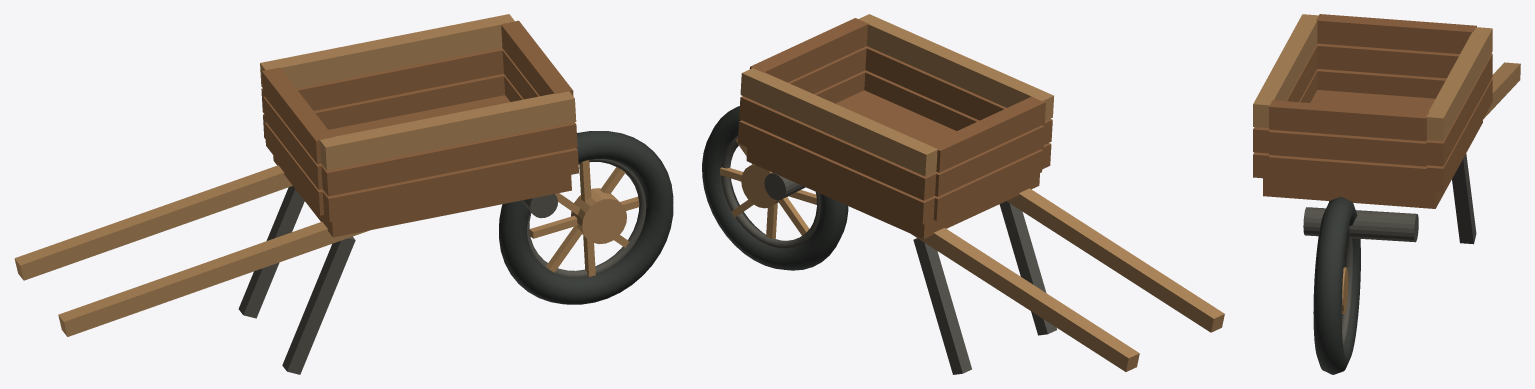
File: carrinho_mao.glb
3 renders of one model, left to right at view 1: azimuth 30°, elevation 25°; view 2: azimuth 150°, elevation 25°; view 3: azimuth 270°, elevation 25°, orthographic. The views are drawn at different scales.
Visible parts, largest first — view 1: Carrinho | pneu, Carrinho | tábua lateral -0.34 2, Carrinho | tábua lateral 0.34 2, Carrinho | braço, Carrinho | braço.001, Carrinho | tábua lateral -0.34 1, Carrinho | tábua lateral -0.34 0, Carrinho | fundo da caçamba, Carrinho | tábua lateral 0.34 1, Carrinho | tábua lateral 0.34 0, Carrinho | perna de apoio, Carrinho | testeira -0.46 2 (+9 smaller); view 2: Carrinho | fundo da caçamba, Carrinho | tábua lateral 0.34 2, Carrinho | pneu, Carrinho | braço.001, Carrinho | braço, Carrinho | tábua lateral -0.34 2, Carrinho | tábua lateral 0.34 1, Carrinho | tábua lateral 0.34 0, Carrinho | testeira -0.46 2, Carrinho | tábua lateral -0.34 1, Carrinho | testeira 0.46 2, Carrinho | perna de apoio.001 (+10 smaller); view 3: Carrinho | pneu, Carrinho | fundo da caçamba, Carrinho | testeira 0.46 2, Carrinho | testeira -0.46 2, Carrinho | testeira 0.46 0, Carrinho | testeira 0.46 1, Carrinho | testeira -0.46 1, Carrinho | tábua lateral 0.34 2, Carrinho | tábua lateral -0.34 2, Carrinho | testeira -0.46 0, Carrinho | eixo da roda, Carrinho | tábua lateral 0.34 0 (+7 smaller).
Boxes of the visible parts, <box> form: Carrinho | pneu: <box>499,131,673,304</box>; Carrinho | tábua lateral -0.34 2: <box>320,91,576,170</box>; Carrinho | tábua lateral 0.34 2: <box>260,14,514,88</box>; Carrinho | braço: <box>58,221,369,336</box>; Carrinho | braço.001: <box>14,165,292,280</box>; Carrinho | tábua lateral -0.34 1: <box>321,122,577,196</box>; Carrinho | tábua lateral -0.34 0: <box>323,148,578,221</box>; Carrinho | fundo da caçamba: <box>273,95,571,237</box>; Carrinho | tábua lateral 0.34 1: <box>261,48,503,112</box>; Carrinho | tábua lateral 0.34 0: <box>263,73,505,138</box>; Carrinho | perna de apoio: <box>282,236,355,374</box>; Carrinho | testeira -0.46 2: <box>261,67,333,164</box>; Carrinho | fundo da caçamba: <box>746,90,1039,239</box>; Carrinho | tábua lateral 0.34 2: <box>740,68,937,176</box>; Carrinho | pneu: <box>702,106,848,270</box>; Carrinho | braço.001: <box>911,228,1139,371</box>; Carrinho | braço: <box>1006,188,1224,332</box>; Carrinho | tábua lateral -0.34 2: <box>858,14,1053,120</box>; Carrinho | tábua lateral 0.34 1: <box>739,96,936,200</box>; Carrinho | tábua lateral 0.34 0: <box>737,120,934,224</box>; Carrinho | testeira -0.46 2: <box>928,96,1045,172</box>; Carrinho | tábua lateral -0.34 1: <box>865,46,1052,144</box>; Carrinho | testeira 0.46 2: <box>749,18,868,82</box>; Carrinho | perna de apoio.001: <box>913,238,971,374</box>; Carrinho | pneu: <box>1313,197,1360,374</box>; Carrinho | fundo da caçamba: <box>1263,90,1482,208</box>; Carrinho | testeira 0.46 2: <box>1269,100,1429,141</box>; Carrinho | testeira -0.46 2: <box>1316,14,1476,53</box>; Carrinho | testeira 0.46 0: <box>1269,155,1427,191</box>; Carrinho | testeira 0.46 1: <box>1269,129,1427,166</box>; Carrinho | testeira -0.46 1: <box>1317,43,1459,78</box>; Carrinho | tábua lateral 0.34 2: <box>1426,27,1492,141</box>; Carrinho | tábua lateral -0.34 2: <box>1253,14,1318,127</box>; Carrinho | testeira -0.46 0: <box>1316,68,1446,98</box>; Carrinho | eixo da roda: <box>1303,207,1418,242</box>; Carrinho | tábua lateral 0.34 0: <box>1427,79,1492,191</box>.
Bounding box in the file's own units: 2.45 × 1.02 × 1.03.
